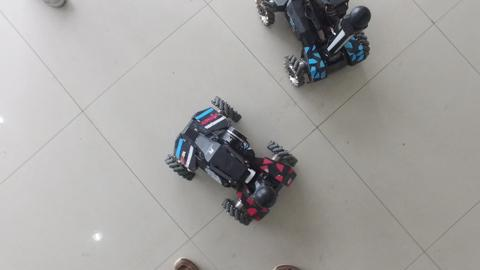chariot: (166, 93, 301, 239), (249, 1, 383, 95)
